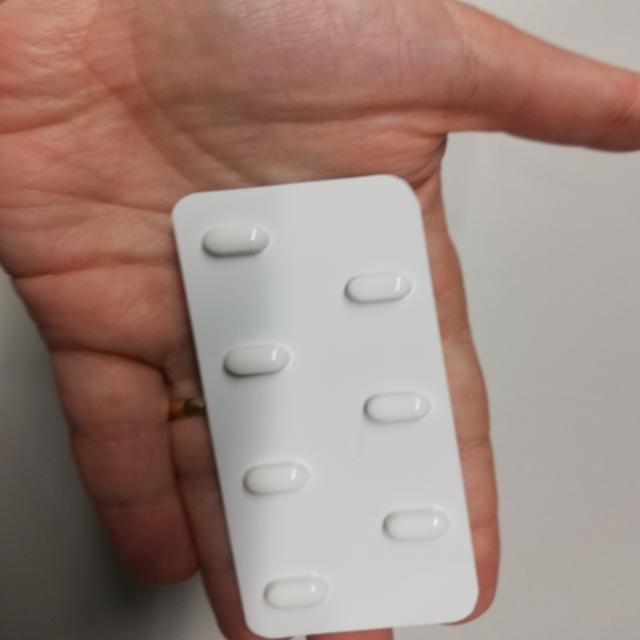Pill: (340, 383, 442, 429), (192, 215, 289, 261), (211, 336, 296, 386), (376, 499, 455, 550), (234, 456, 320, 502), (337, 268, 424, 308), (258, 568, 332, 615)
